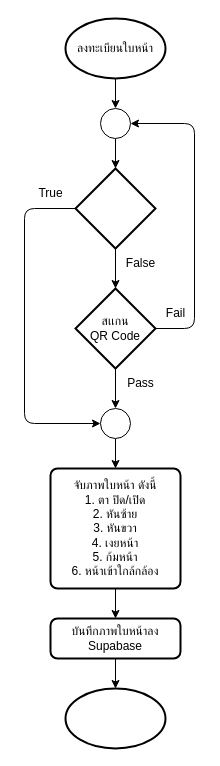
The diagram is 220 pixels wide and 766 high, and some of its shapes have lost their labels. The shapes that lost their labels are listed below. From the top down, each one's centre as x and y in pixels, then its label:
At [115,208]: "ตรวจสอบ Webcam".
At [115,718]: "End".
